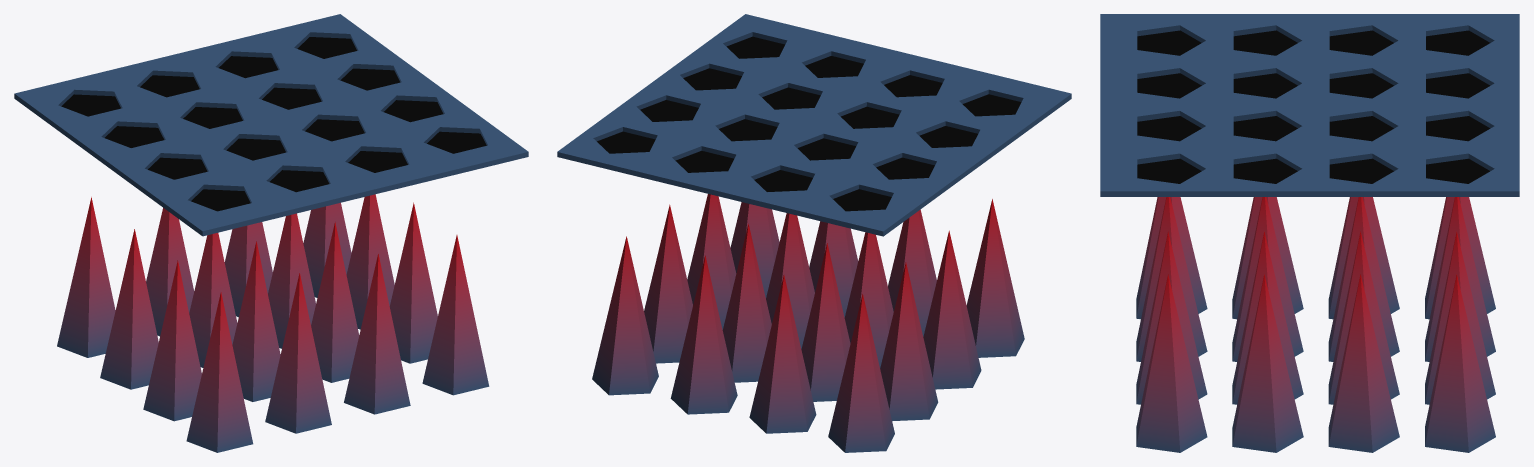
Rendered from SpikeTrap.fbx.
The picture shows the model from 3 angles, left to right: view 1: azimuth 30°, elevation 25°; view 2: azimuth 150°, elevation 25°; view 3: azimuth 270°, elevation 25°; orthographic projection. The views are drawn at different scales.
Visible parts, largest first — view 1: Plane.002, Plane.001; view 2: Plane.002, Plane.001; view 3: Plane.001, Plane.002.
Part boxes in pixels (x1,y1,x2,y2): Plane.002: (57,194,489,452); Plane.001: (14,14,528,236); Plane.002: (592,194,1024,452); Plane.001: (557,14,1071,236); Plane.001: (1100,14,1519,196); Plane.002: (1136,197,1495,452).
Bounding box in the file's own units: 200 × 141 × 200.
